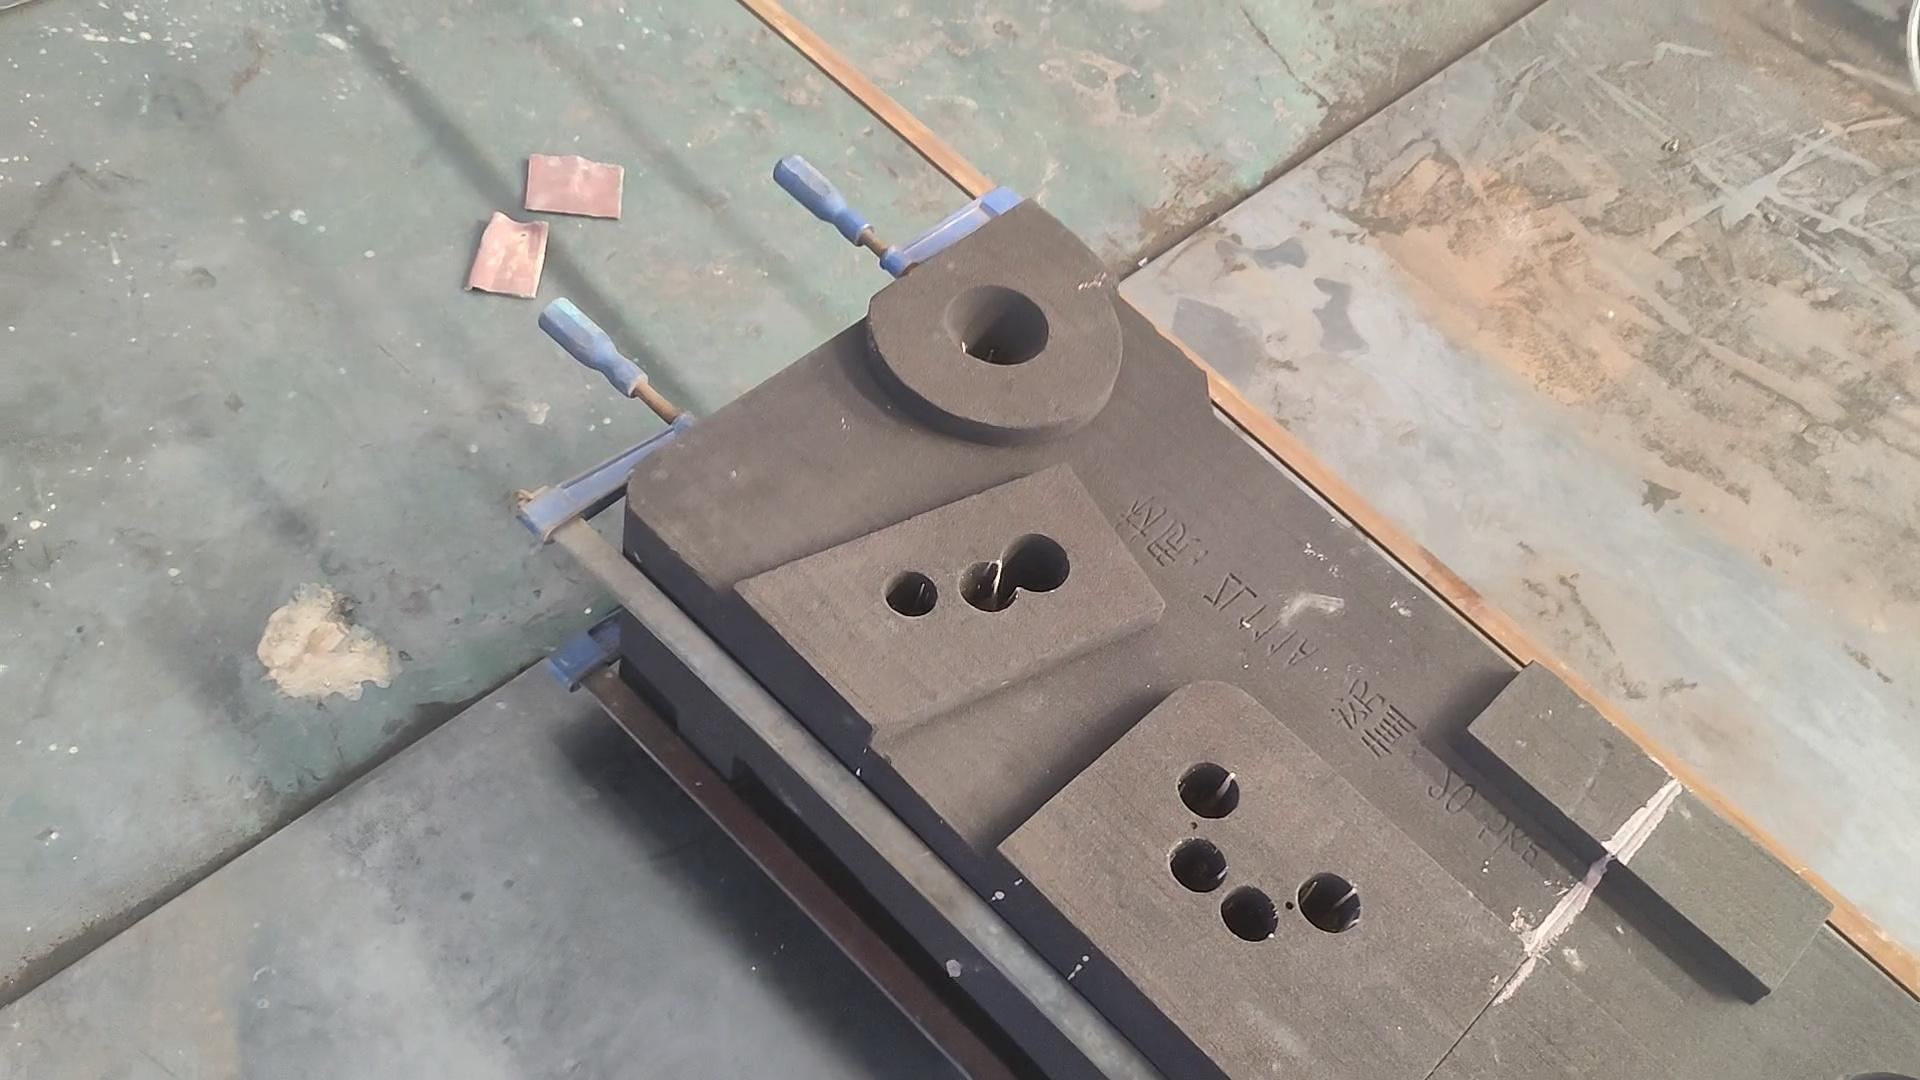pouring hole: (947, 287, 1048, 365)
